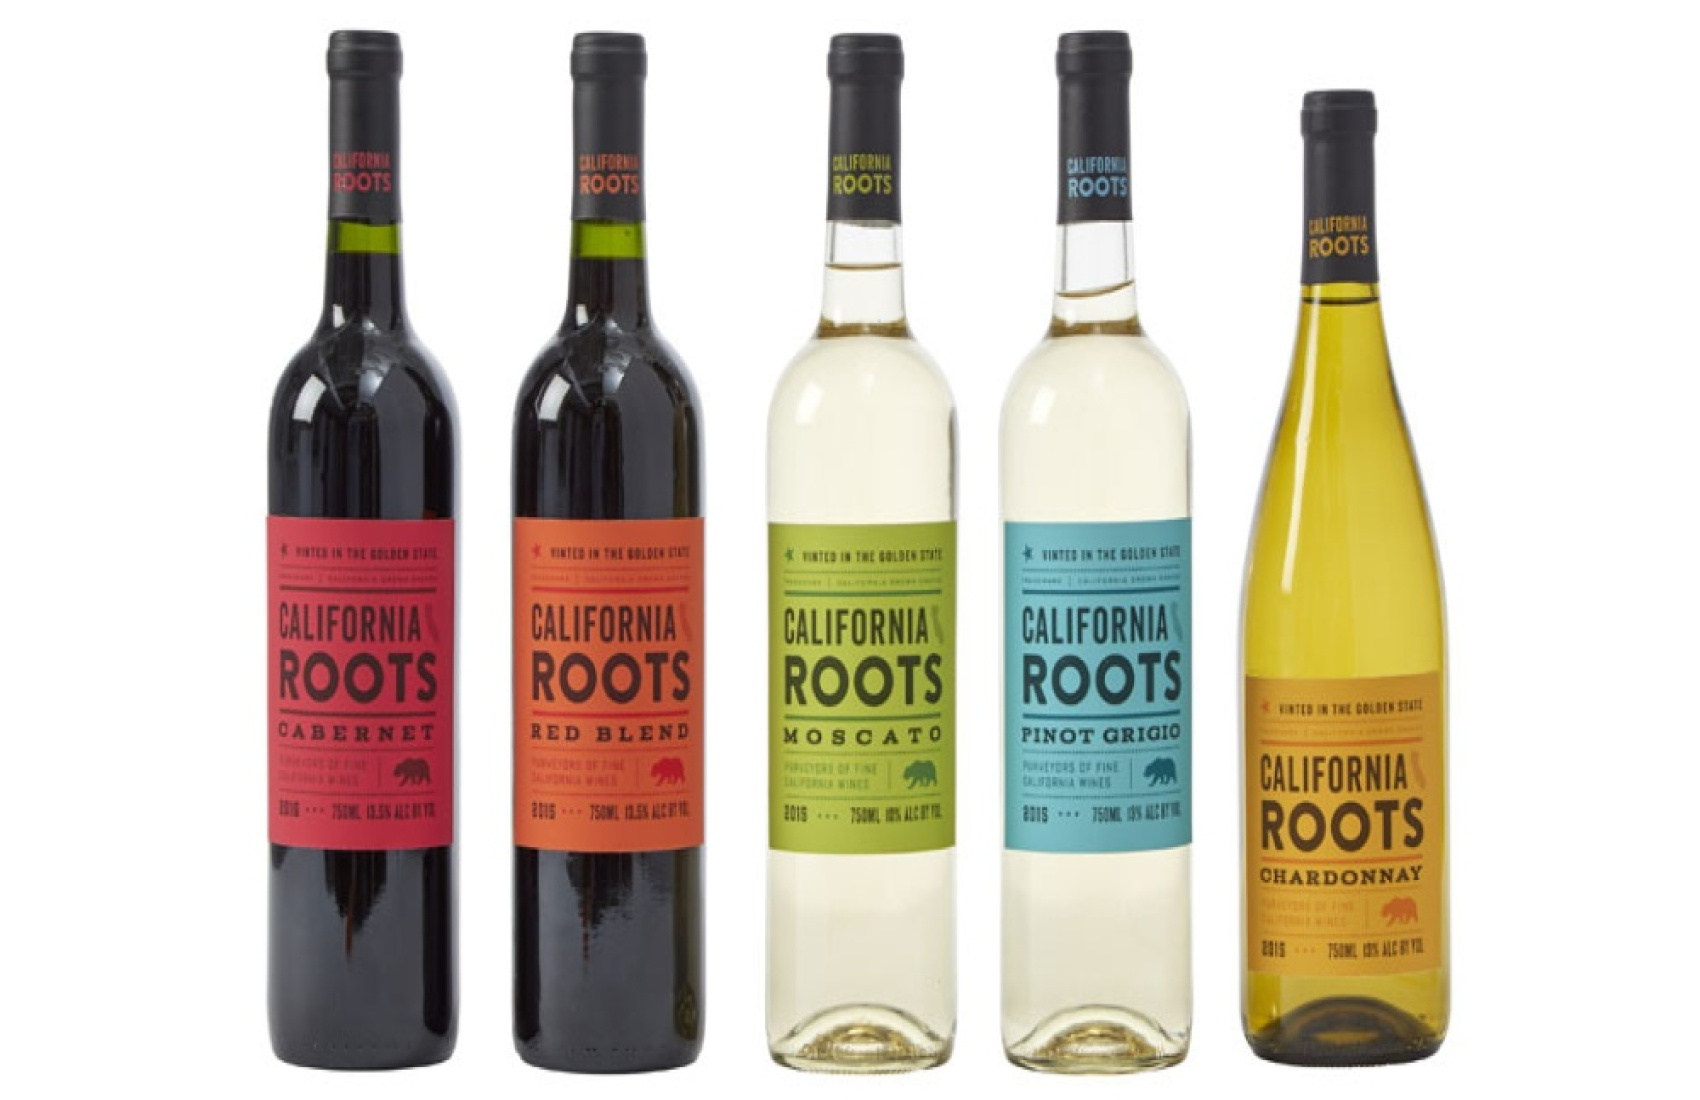wine: (263, 20, 456, 1075), (517, 6, 710, 1062), (1244, 21, 1437, 1076), (763, 1, 957, 1055), (997, 1, 1191, 1055)
